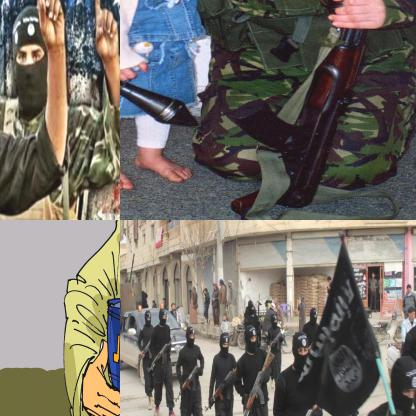rifle: (226, 0, 384, 215), (235, 350, 276, 415), (202, 367, 238, 415), (146, 336, 178, 376), (172, 367, 201, 404)
